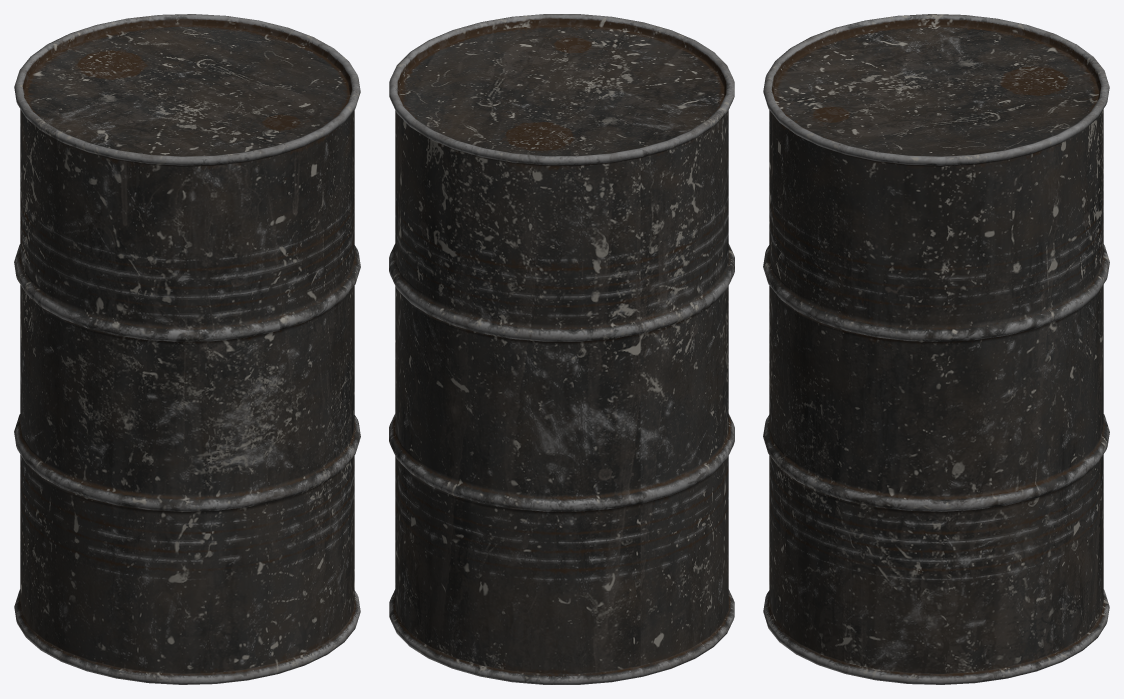
File: Barrel_2.glb
3 renders of one model, left to right at view 1: azimuth 30°, elevation 25°; view 2: azimuth 150°, elevation 25°; view 3: azimuth 270°, elevation 25°, orthographic.
Parts seen in each view (by area): view 1: Barrel4_low_Metal4_0; view 2: Barrel4_low_Metal4_0; view 3: Barrel4_low_Metal4_0.
Part boxes in pixels (box(x1,y1,x2,y2)): Barrel4_low_Metal4_0: box(14, 14, 360, 684); Barrel4_low_Metal4_0: box(389, 14, 734, 684); Barrel4_low_Metal4_0: box(763, 14, 1109, 684).
Bounding box in the file's own units: 0.4118 × 0.6896 × 0.4118.
1 material, 1 textured.
